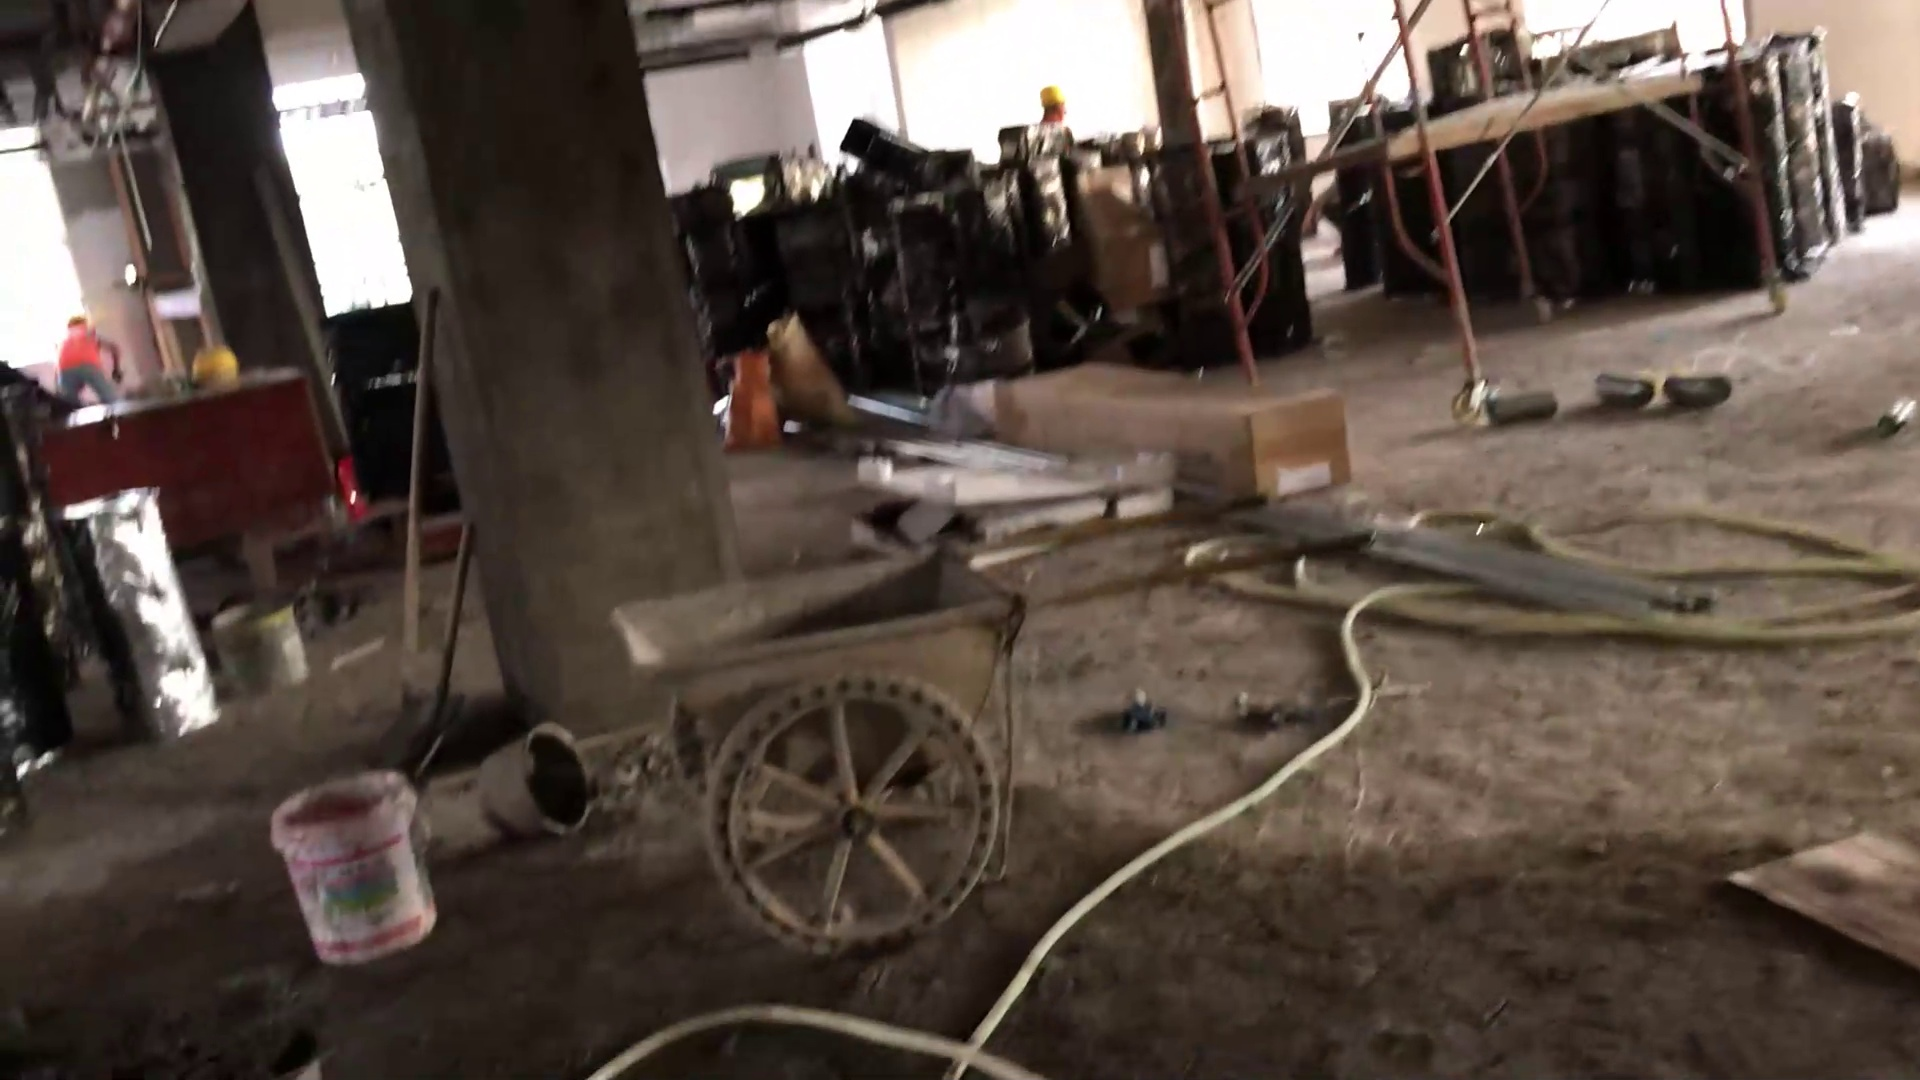handcart: (595, 480, 1397, 912)
helmet: (189, 342, 242, 385), (1039, 84, 1065, 105)
person: (47, 308, 123, 409), (1032, 88, 1080, 159)
vest: (55, 329, 109, 378)
